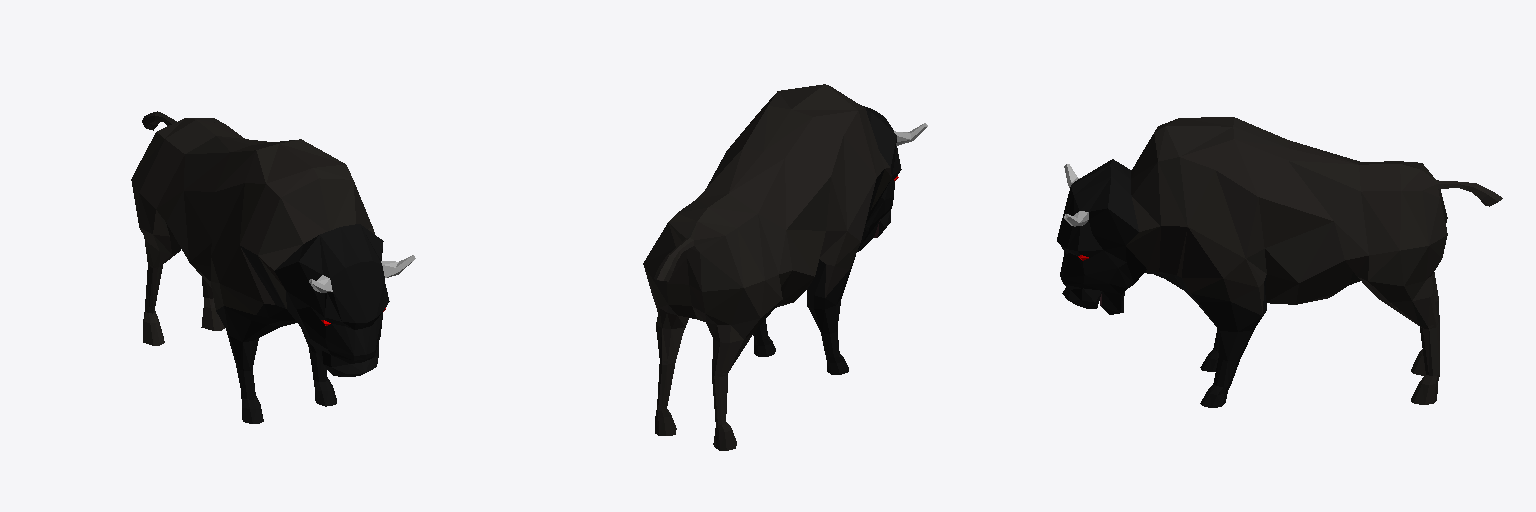
File: bison_colorMap.obj
The picture shows the model from 3 angles: view 1: azimuth 30°, elevation 25°; view 2: azimuth 150°, elevation 25°; view 3: azimuth 270°, elevation 25°; orthographic projection.
Size of the model in its own units: 104 by 199 by 310.